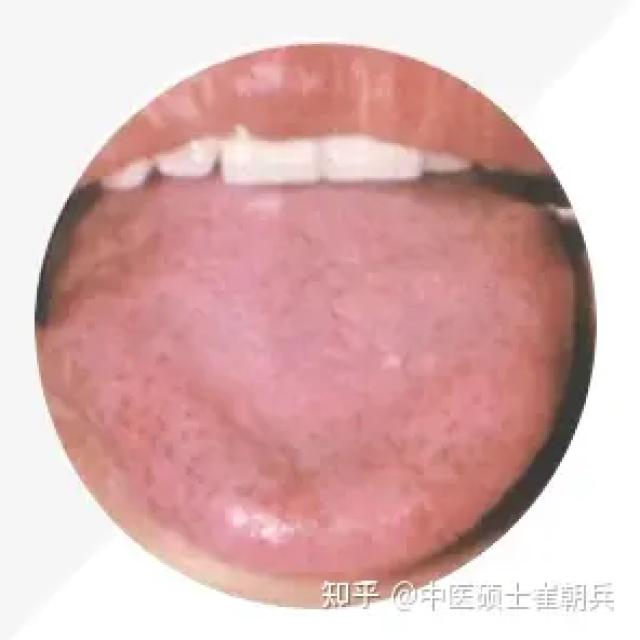tongue: (67, 194, 573, 567)
